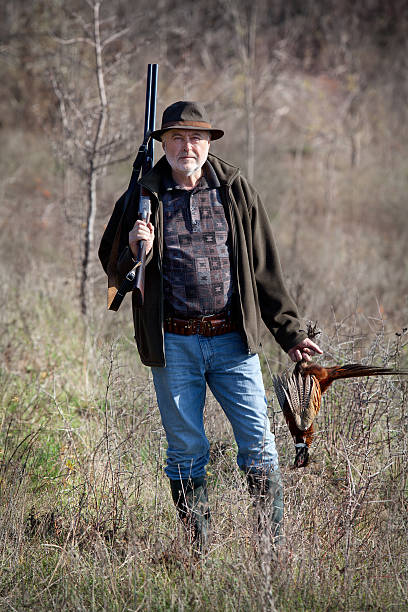gun: (131, 63, 158, 308)
